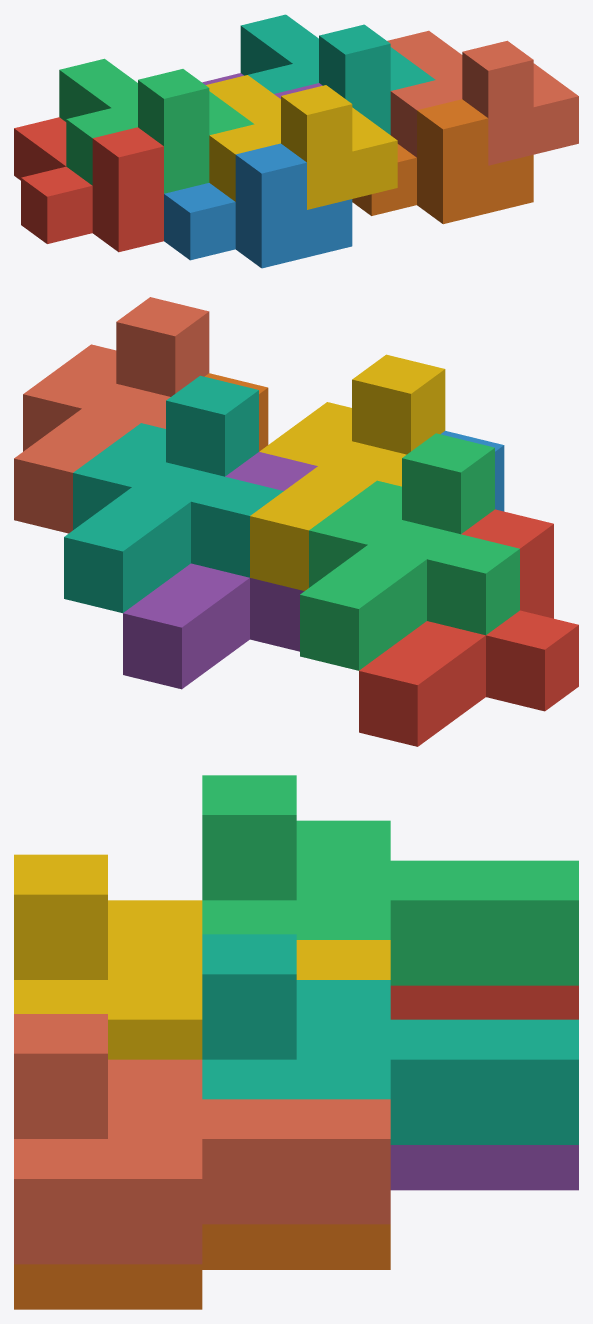
The model's file is tiling.obj.
3 renders of one model, top to bottom at view 1: azimuth 30°, elevation 25°; view 2: azimuth 150°, elevation 25°; view 3: azimuth 270°, elevation 25°, orthographic. The views are drawn at different scales.
Visible parts, largest first — view 1: copy_1_domain_1, copy_1_domain_4, copy_1_domain_8, copy_1_domain_2, copy_1_domain_3, copy_1_domain_6, copy_1_domain_7, copy_1_domain_5; view 2: copy_1_domain_3, copy_1_domain_7, copy_1_domain_1, copy_1_domain_8, copy_1_domain_4, copy_1_domain_5, copy_1_domain_2, copy_1_domain_6; view 3: copy_1_domain_8, copy_1_domain_7, copy_1_domain_3, copy_1_domain_4, copy_1_domain_6, copy_1_domain_5, copy_1_domain_1.
Boxes of the visible parts, left/top/right/bottom form: copy_1_domain_1: left=14, top=117, right=163, bottom=252; copy_1_domain_4: left=206, top=75, right=397, bottom=209; copy_1_domain_8: left=387, top=30, right=578, bottom=165; copy_1_domain_2: left=164, top=143, right=352, bottom=268; copy_1_domain_3: left=59, top=58, right=254, bottom=193; copy_1_domain_6: left=352, top=99, right=533, bottom=224; copy_1_domain_7: left=240, top=14, right=435, bottom=134; copy_1_domain_5: left=202, top=73, right=322, bottom=98; copy_1_domain_3: left=300, top=433, right=519, bottom=670; copy_1_domain_7: left=64, top=375, right=283, bottom=613; copy_1_domain_1: left=359, top=509, right=578, bottom=746; copy_1_domain_8: left=14, top=297, right=209, bottom=533; copy_1_domain_4: left=250, top=354, right=445, bottom=590; copy_1_domain_5: left=123, top=452, right=317, bottom=689; copy_1_domain_2: left=441, top=430, right=504, bottom=511; copy_1_domain_6: left=205, top=373, right=268, bottom=451; copy_1_domain_8: left=14, top=1014, right=390, bottom=1264; copy_1_domain_7: left=202, top=934, right=578, bottom=1144; copy_1_domain_3: left=202, top=775, right=578, bottom=985; copy_1_domain_4: left=14, top=854, right=390, bottom=1059; copy_1_domain_6: left=14, top=1224, right=390, bottom=1309; copy_1_domain_5: left=390, top=1145, right=578, bottom=1190; copy_1_domain_1: left=390, top=985, right=578, bottom=1019.
Bounding box in the file's own units: 10 × 3 × 6.
